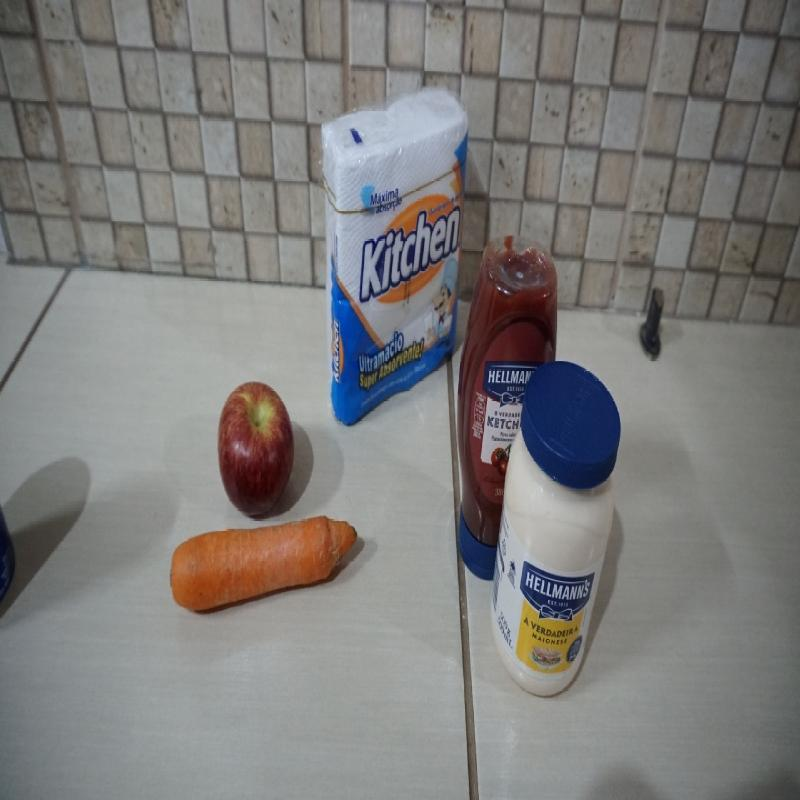Apple: (217, 378, 298, 522)
Carrot: (170, 511, 359, 616)
Ketchup: (459, 235, 559, 577)
Mayonnaise: (488, 362, 620, 697)
Napkin: (321, 89, 470, 429)
